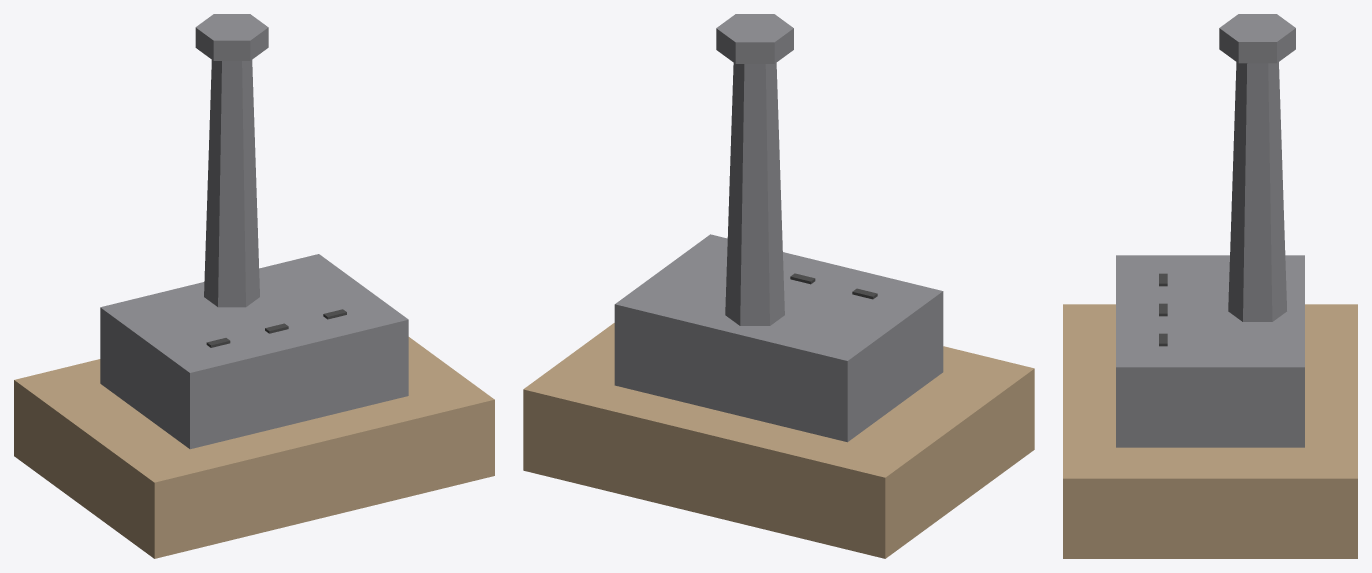
The model's file is prop-eye-punch-die.fbx.
3 renders of one model, left to right at view 1: azimuth 30°, elevation 25°; view 2: azimuth 150°, elevation 25°; view 3: azimuth 270°, elevation 25°, orthographic. The views are drawn at different scales.
Visible parts, largest first — view 1: prop-eye-punch-die; view 2: prop-eye-punch-die; view 3: prop-eye-punch-die.
Part boxes in pixels (x1,y1,x2,y2): prop-eye-punch-die: [14, 14, 494, 558]; prop-eye-punch-die: [523, 14, 1034, 558]; prop-eye-punch-die: [1063, 14, 1357, 558].
Size of the model in its own units: 7 by 8.3 by 5.
